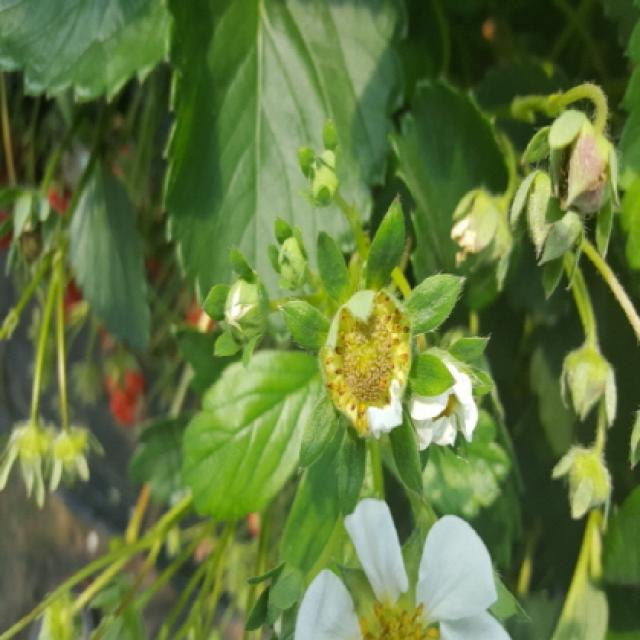Blossom Blight: (319, 293, 415, 434)
